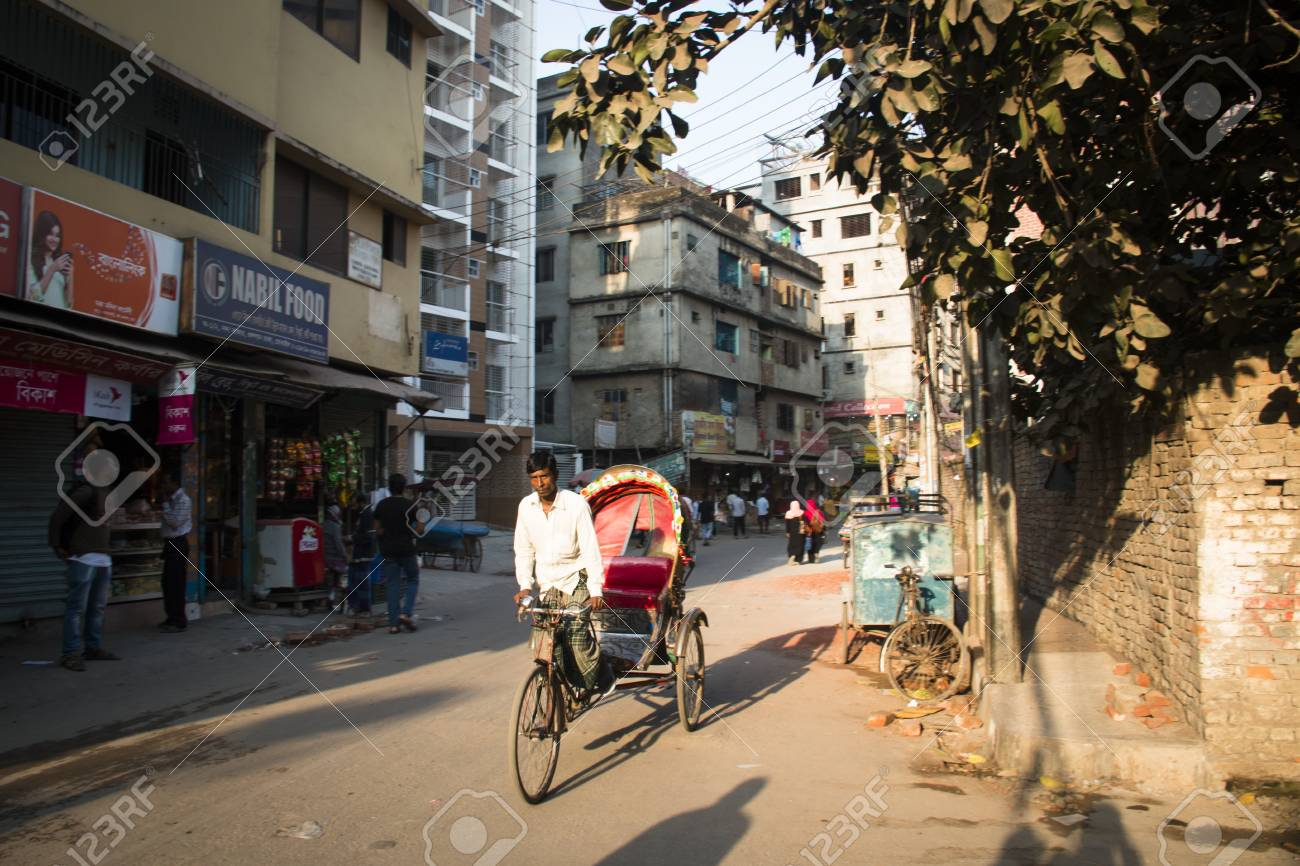Rickshaw: (541, 457, 715, 787)
